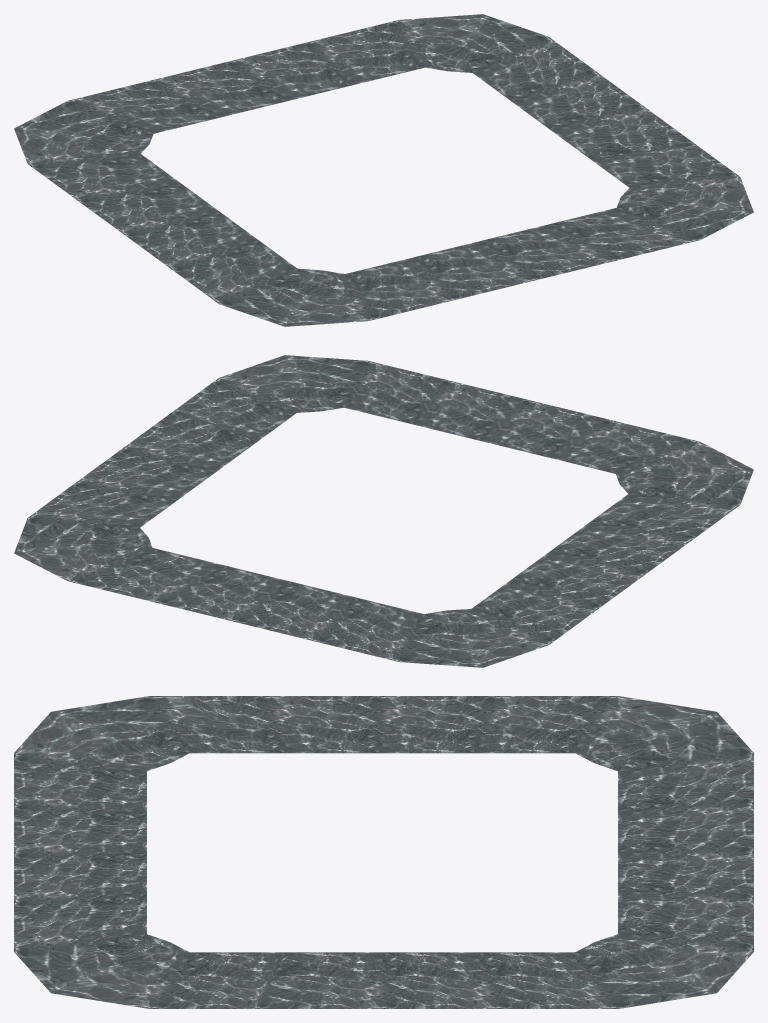
Rendered from Loft07.obj.
3 renders of one model, top to bottom at view 1: azimuth 30°, elevation 25°; view 2: azimuth 150°, elevation 25°; view 3: azimuth 270°, elevation 25°, orthographic. The views are drawn at different scales.
Visible parts, largest first — view 1: Loft07; view 2: Loft07; view 3: Loft07.
Part boxes in pixels (x1,y1,x2,y2): Loft07: (14, 14, 753, 326); Loft07: (14, 355, 753, 667); Loft07: (14, 696, 753, 1008).
Size of the model in its own units: 440 by 1.53e-05 by 440.
